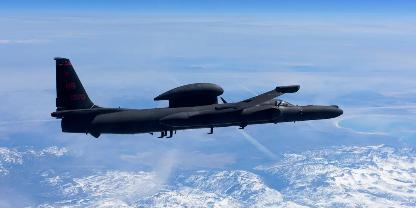Tu160: (52, 57, 342, 138)
